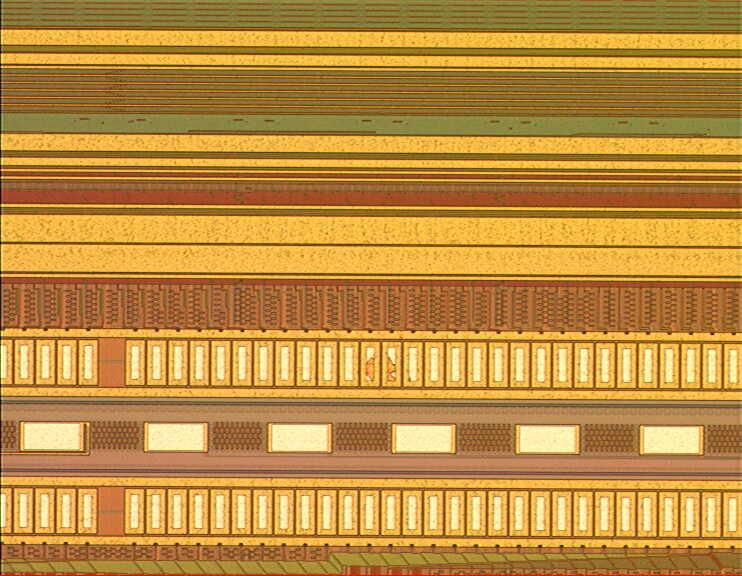BLOCK ETCH: (357, 347, 405, 395)
